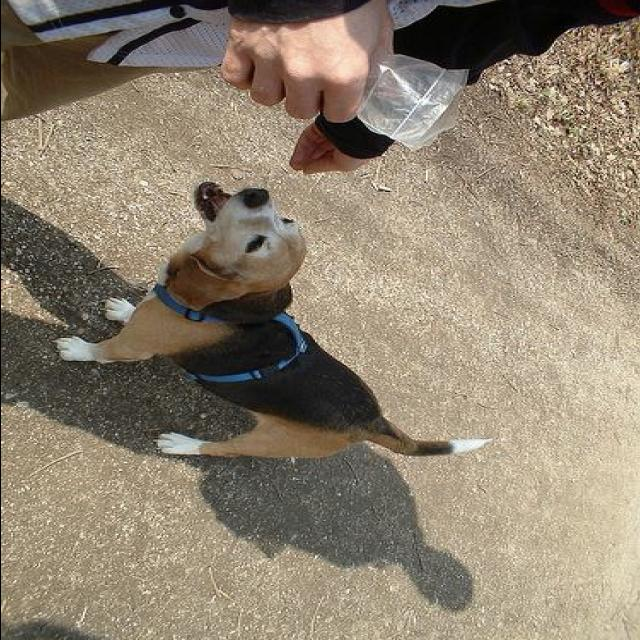beagle: (55, 182, 493, 464)
